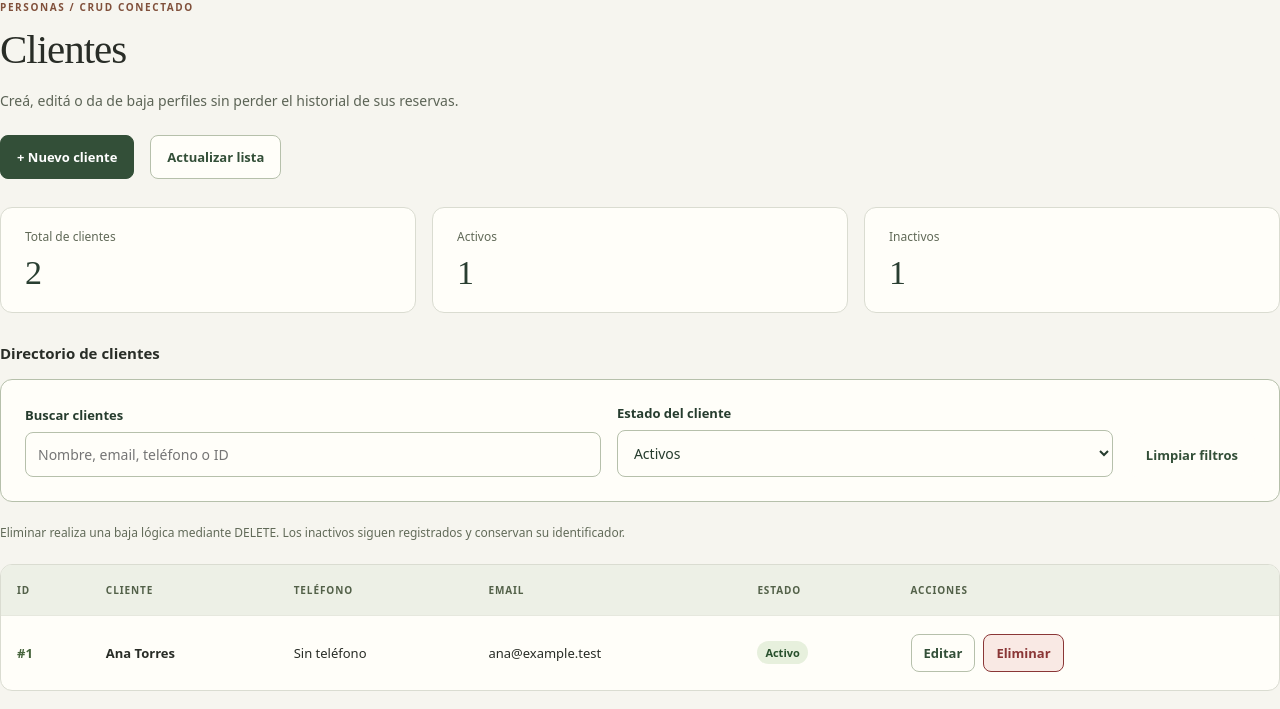
Test case: ClientesPage combina búsqueda y estado sin consultar por cada tecla
Expected: the table is shown, [1,565,1279,690]
Select "Todos" in the dropdown labelled "Estado del cliente" at (865, 454), box [617,430,1113,477]
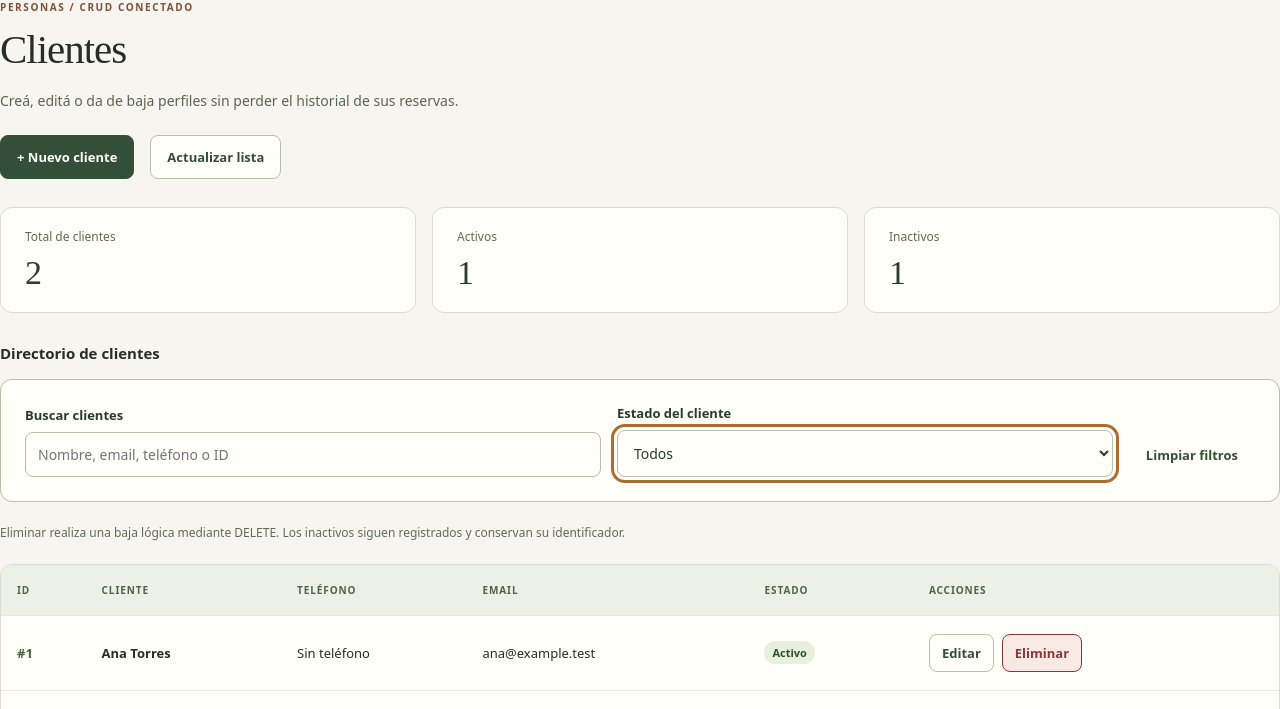
Type " BRUNO " into the search field labelled "Buscar clientes".
click(313, 455); type(" BRUNO ")  # box [25,432,601,477]
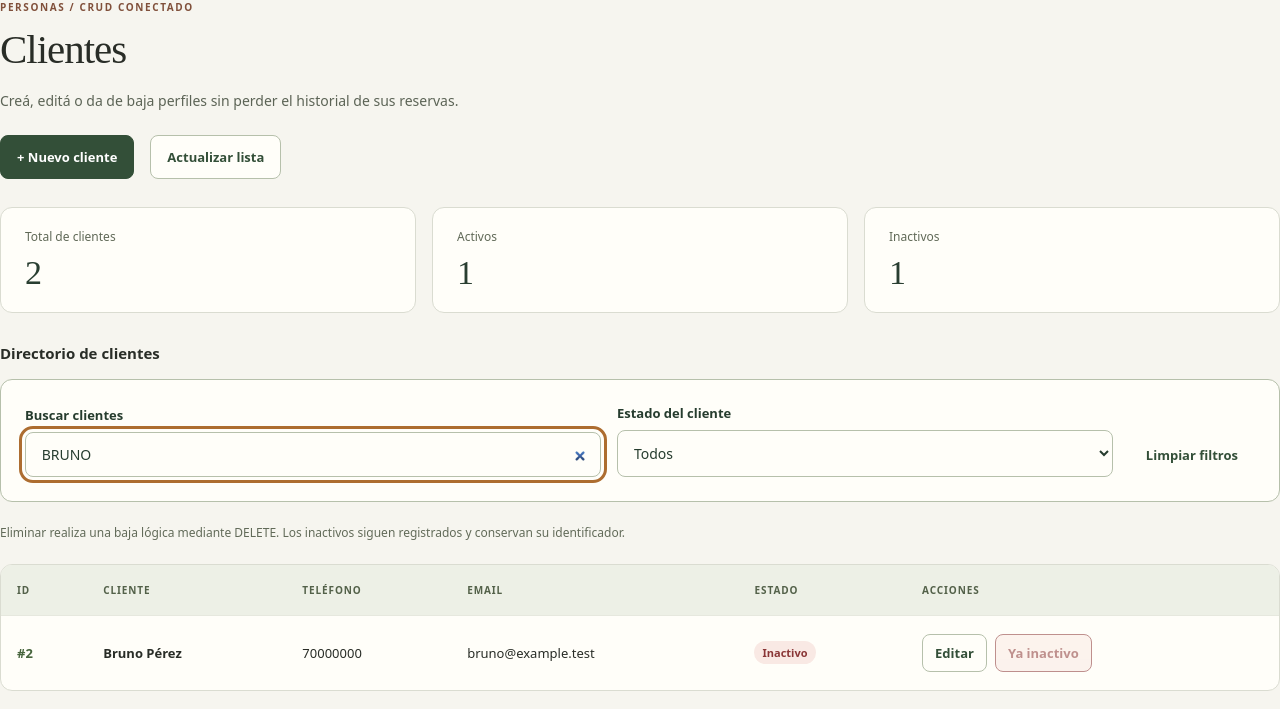
Now the table shows "Bruno Pérez", box [103,644,182,662]
Now the table no longer shows "Ana Torres", box [1,565,1279,690]
Select "Activos" in the dropdown labelled "Estado del cliente" at (865, 454), box [617,430,1113,477]
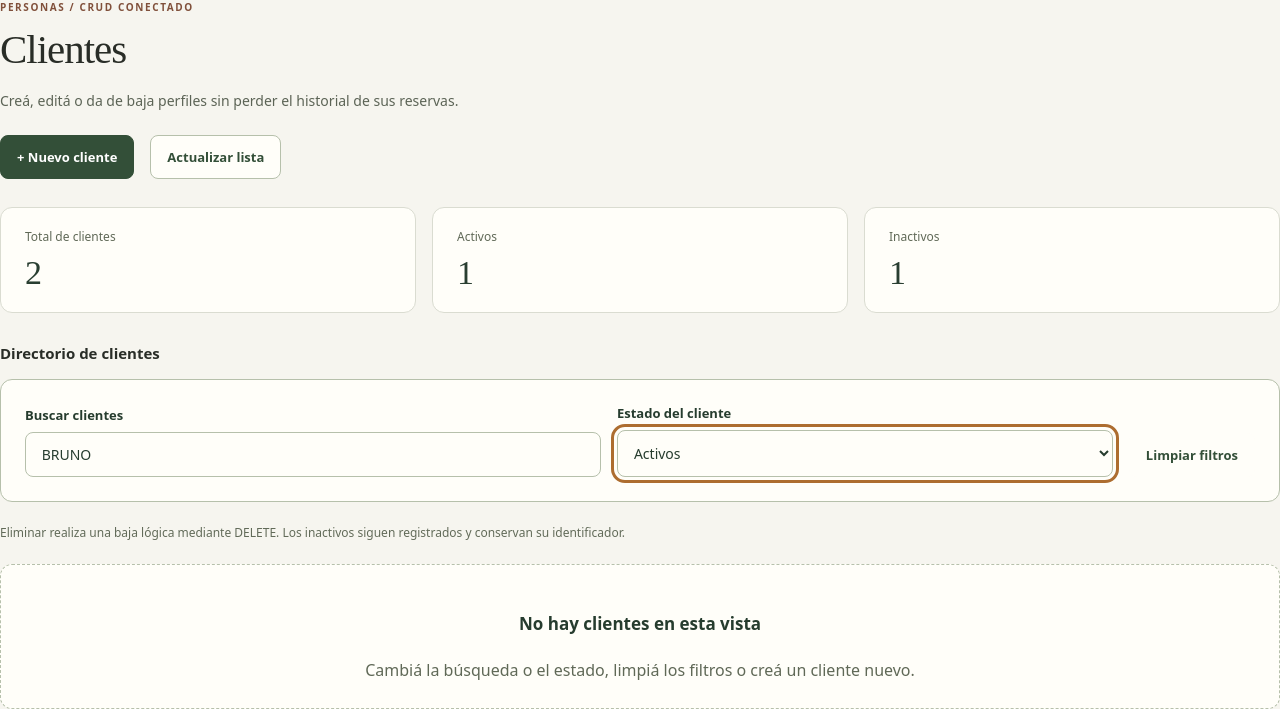
Now the table is gone
Now the heading "No hay clientes en esta vista" is shown, box [519,612,761,635]
